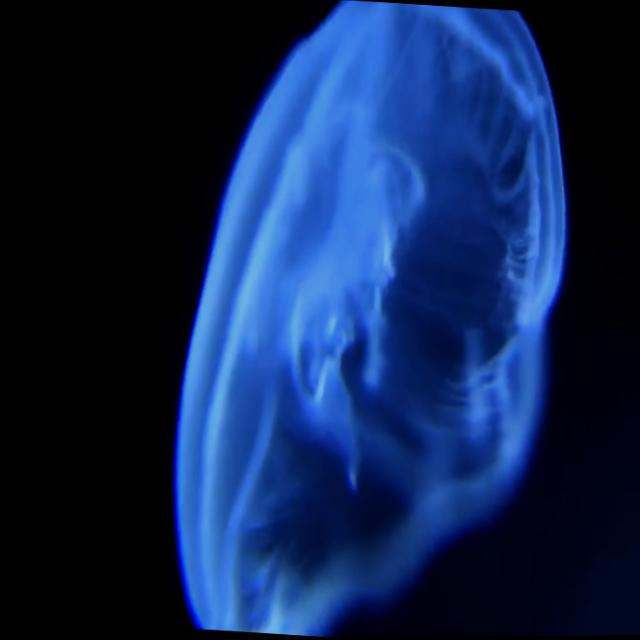Moon-jellyfish: (169, 0, 563, 637)
